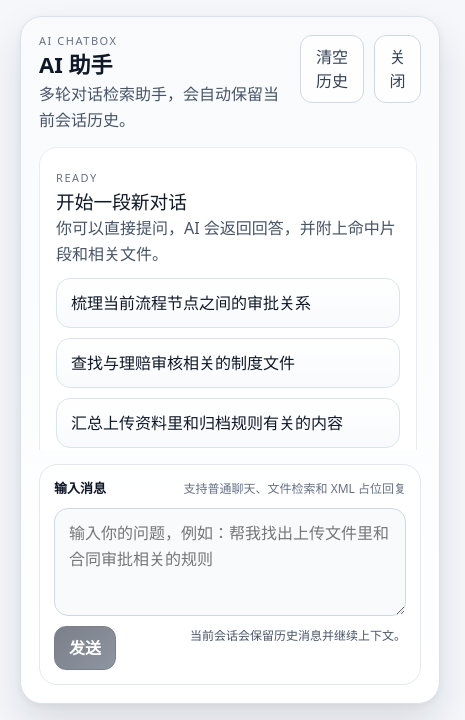
AiAssistantPopover › renders error text when sending fails
The width and height of the screenshot is (465, 720).
Type "查询失败案例" into the text box with test id "ai-question-input".
click(230, 562); type("查询失败案例")  # box [54,508,406,616]
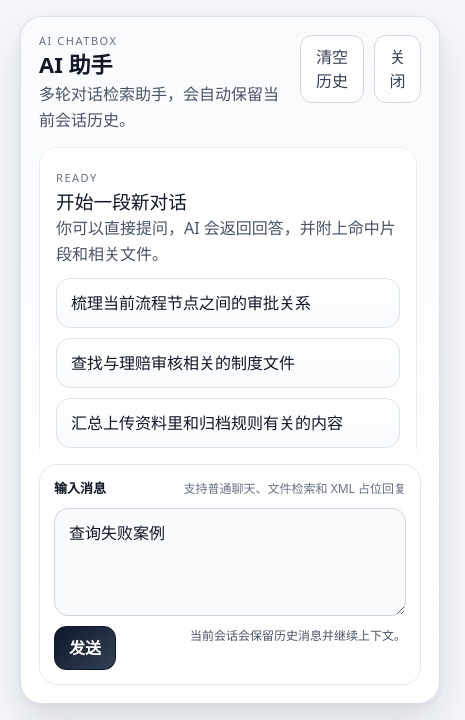
Click the button with test id "ai-submit".
click(85, 648)  # box [54,626,116,670]
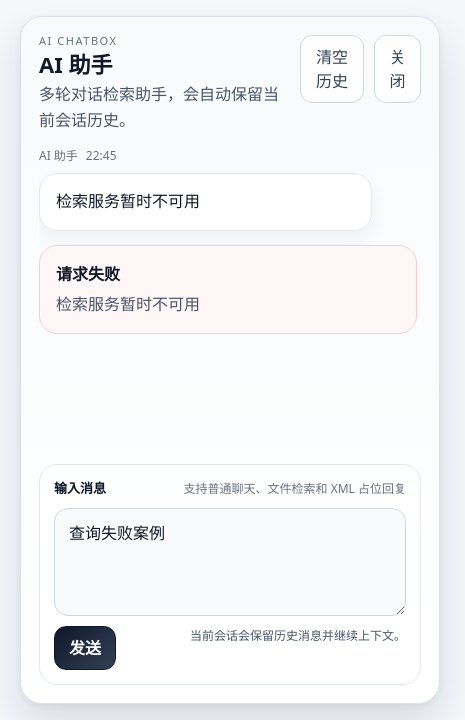
Result: the text "检索服务暂时不可用" is shown at [56,190,200,212]
